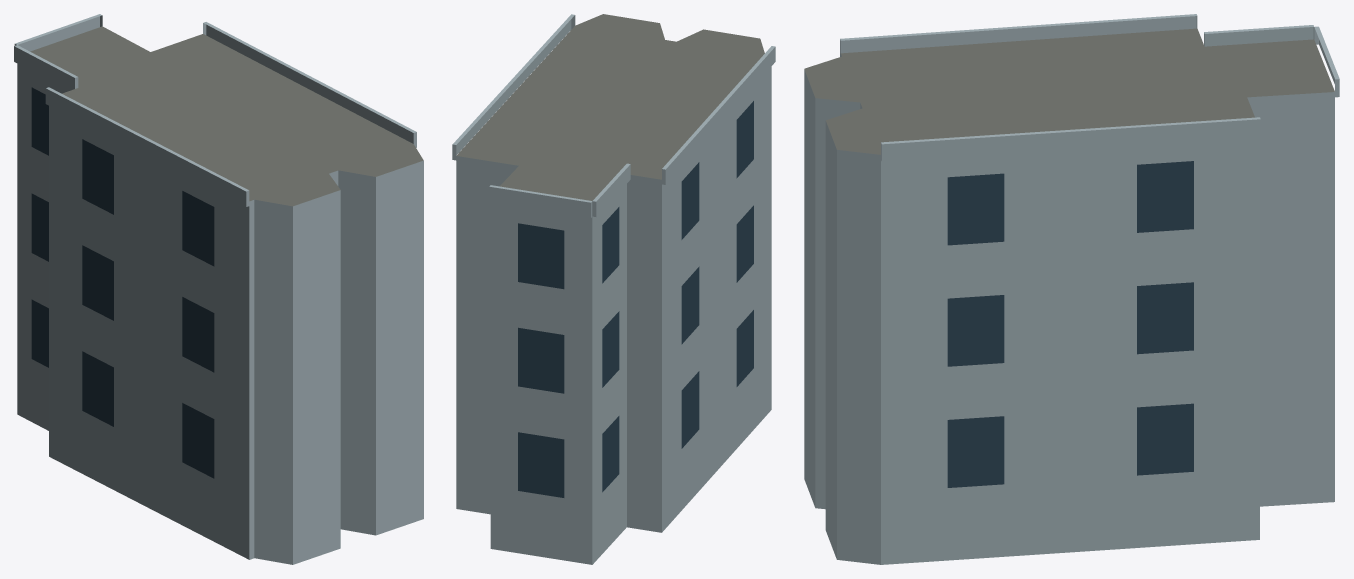
3 renders of one model, left to right at view 1: azimuth 30°, elevation 25°; view 2: azimuth 150°, elevation 25°; view 3: azimuth 270°, elevation 25°, orthographic. The views are drawn at different scales.
Visible parts, largest first — view 1: Footprint 0 / surface 2, Footprint 0 / surface 1, Inset glazing, Facade bay volumes; view 2: Footprint 0 / surface 2, Footprint 0 / surface 1, Inset glazing, Facade bay volumes; view 3: Footprint 0 / surface 2, Footprint 0 / surface 1, Inset glazing, Facade bay volumes.
Part boxes in pixels (left/top/right/bottom): Footprint 0 / surface 2: left=17, top=63, right=423, bottom=564; Footprint 0 / surface 1: left=30, top=26, right=423, bottom=206; Inset glazing: left=31, top=87, right=214, bottom=478; Facade bay volumes: left=14, top=14, right=416, bottom=206; Footprint 0 / surface 2: left=456, top=66, right=771, bottom=564; Footprint 0 / surface 1: left=456, top=14, right=764, bottom=200; Inset glazing: left=518, top=101, right=753, bottom=497; Facade bay volumes: left=452, top=14, right=775, bottom=217; Footprint 0 / surface 2: left=804, top=54, right=1334, bottom=564; Footprint 0 / surface 1: left=804, top=28, right=1334, bottom=154; Inset glazing: left=947, top=161, right=1193, bottom=487; Facade bay volumes: left=840, top=14, right=1339, bottom=162.
Bounding box in the file's own units: 7.79 × 11.78 × 13.53.
